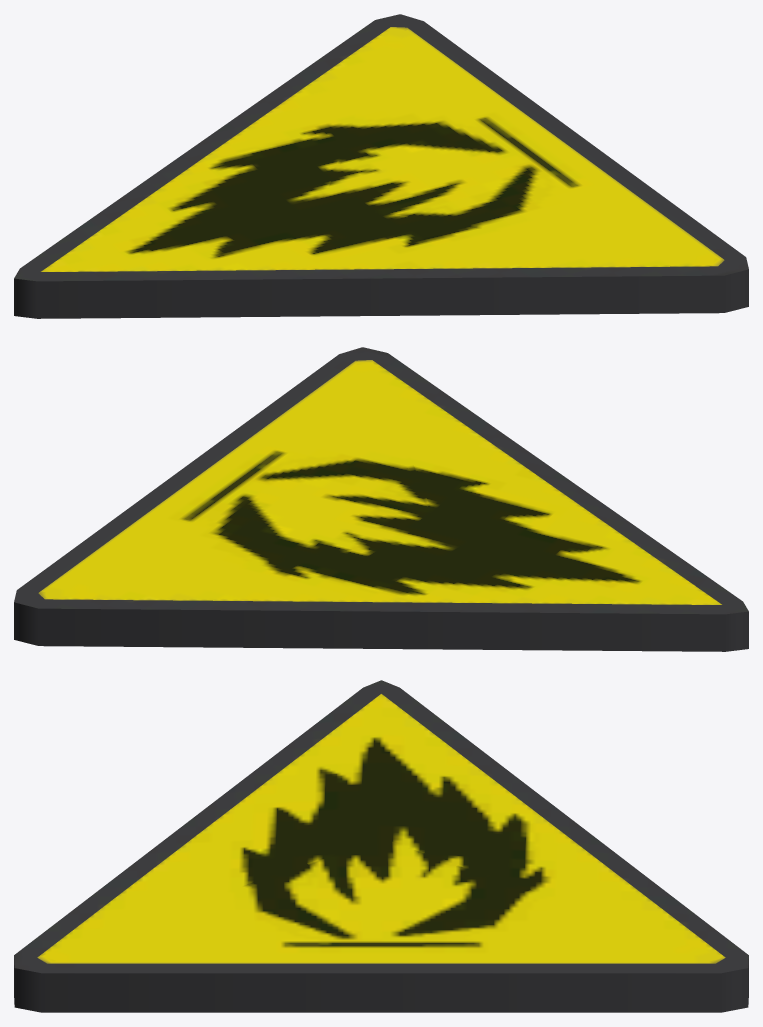
Rendered from SM_Sign_Explosive_01.obj.
3 renders of one model, top to bottom at view 1: azimuth 30°, elevation 25°; view 2: azimuth 150°, elevation 25°; view 3: azimuth 270°, elevation 25°, orthographic. The views are drawn at different scales.
Parts seen in each view (by area): view 1: SM_Sign_Explosive_01_M_PropaneDecals; view 2: SM_Sign_Explosive_01_M_PropaneDecals; view 3: SM_Sign_Explosive_01_M_PropaneDecals.
Boxes of the visible parts, x1,y1,x2,y2 form: SM_Sign_Explosive_01_M_PropaneDecals: (14,14,748,318); SM_Sign_Explosive_01_M_PropaneDecals: (14,347,748,651); SM_Sign_Explosive_01_M_PropaneDecals: (14,680,748,1012).
Bounding box in the file's own units: 0.4563 × 0.0286 × 0.4834.
Materials: 1 (1 with a texture image).
